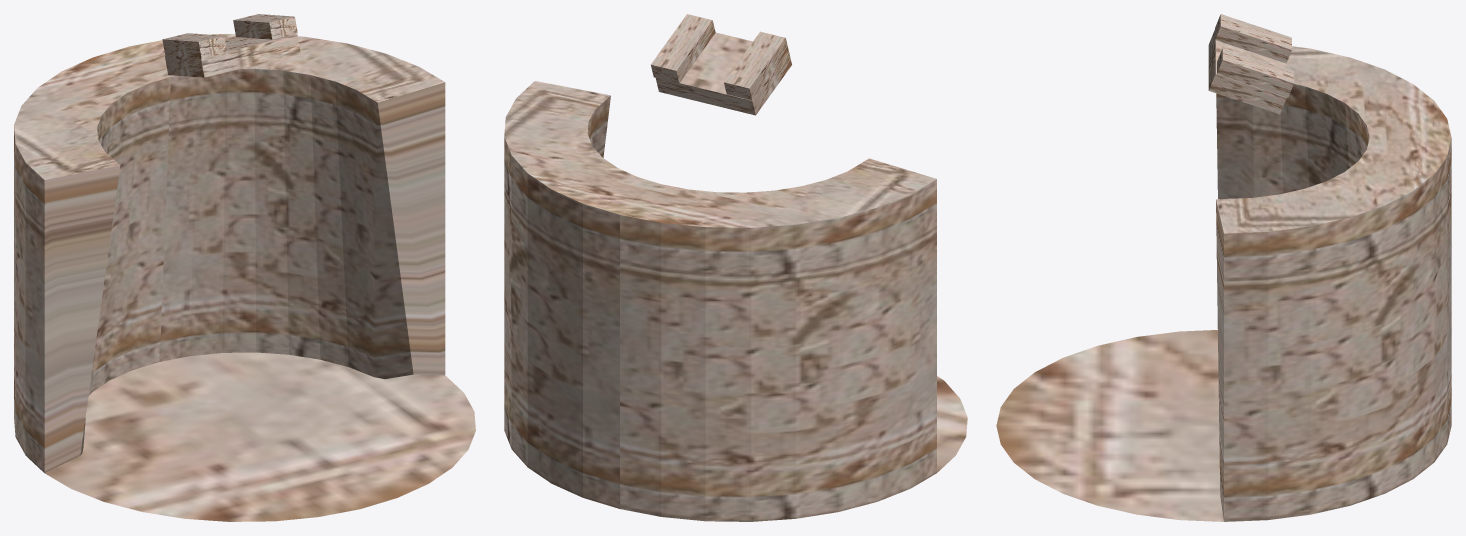
Rendered from fountain.glb.
3 renders of one model, left to right at view 1: azimuth 30°, elevation 25°; view 2: azimuth 150°, elevation 25°; view 3: azimuth 270°, elevation 25°, orthographic. The views are drawn at different scales.
Visible parts, largest first — view 1: Cylinder; view 2: Cylinder; view 3: Cylinder.
Boxes of the visible parts, left/top/right/bottom form: Cylinder: left=14, top=14, right=475, bottom=521; Cylinder: left=504, top=14, right=967, bottom=521; Cylinder: left=996, top=14, right=1451, bottom=521.
Bounding box in the file's own units: 2 × 1.91 × 2.
Materials: 1 (1 with a texture image).
